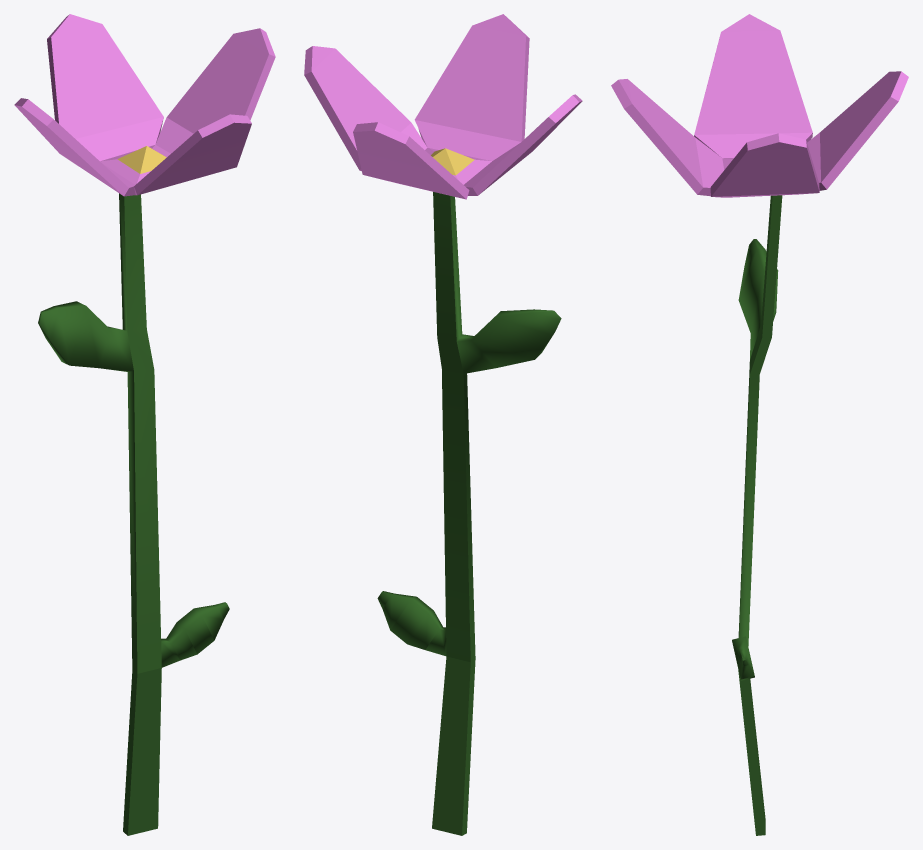
Rendered from Flower_2.fbx.
3 views of the same model, side by side, from view 1: azimuth 30°, elevation 25°; view 2: azimuth 150°, elevation 25°; view 3: azimuth 270°, elevation 25° (orthographic).
Parts seen in each view (by area): view 1: Flowers.002; view 2: Flowers.002; view 3: Flowers.002.
Boxes of the visible parts, bbox=[...] form: Flowers.002: bbox=[14, 14, 275, 835]; Flowers.002: bbox=[304, 14, 582, 835]; Flowers.002: bbox=[611, 14, 908, 835].
Size of the model in its own units: 29.18 by 82.09 by 29.26.
